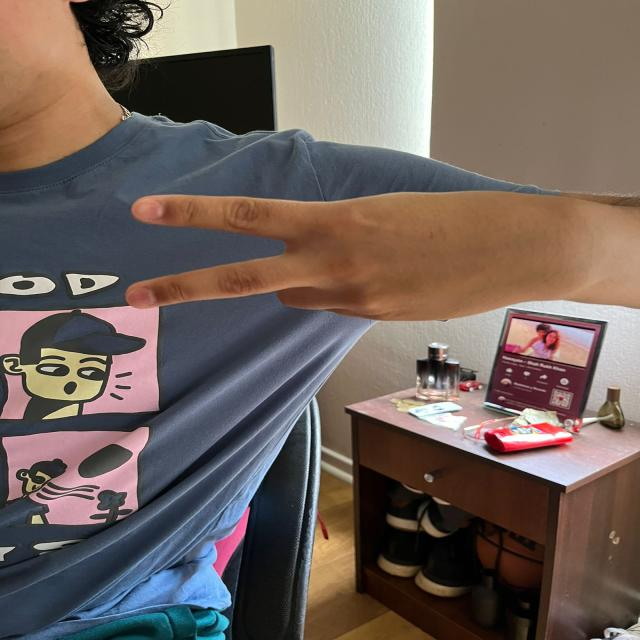H: (128, 188, 576, 324)
